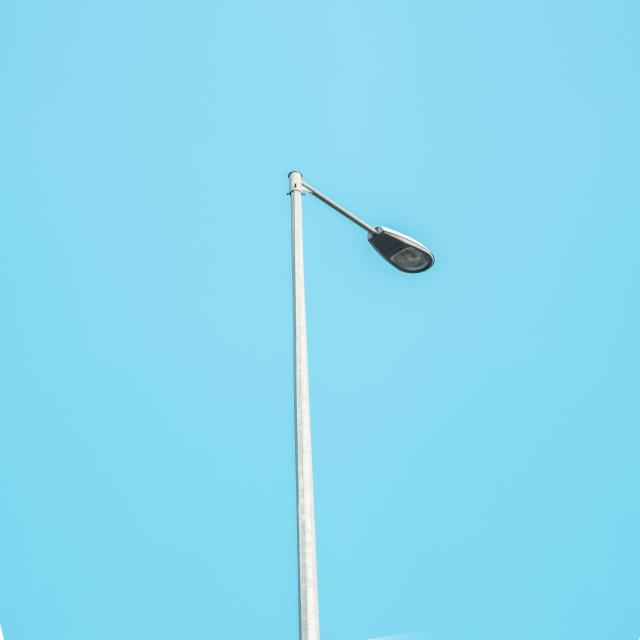Street Light: (287, 171, 437, 640)
